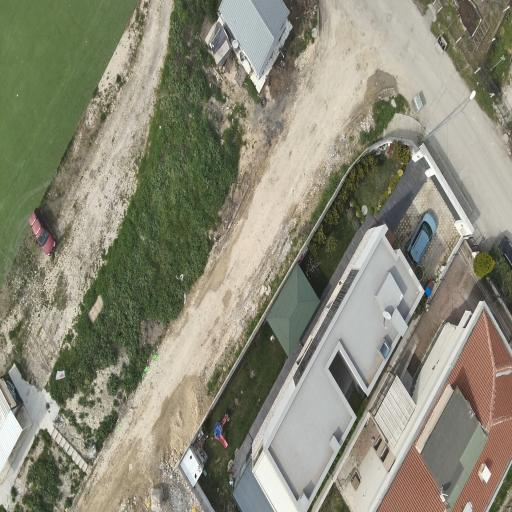car: (407, 213, 436, 264), (29, 209, 55, 255), (498, 236, 511, 266)
